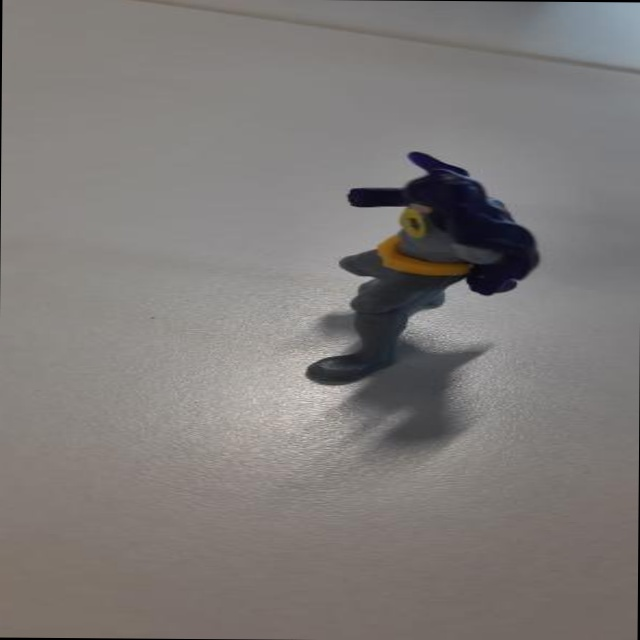Batman: (289, 148, 536, 392)
